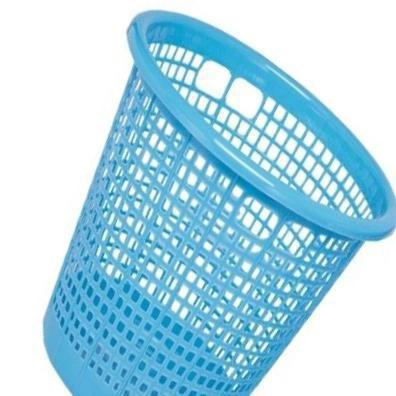Bote de Basura: (40, 12, 395, 395)
